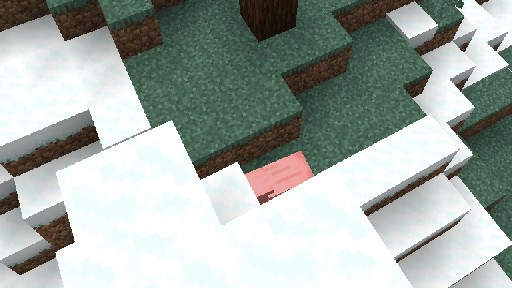pig: (238, 149, 315, 217)
